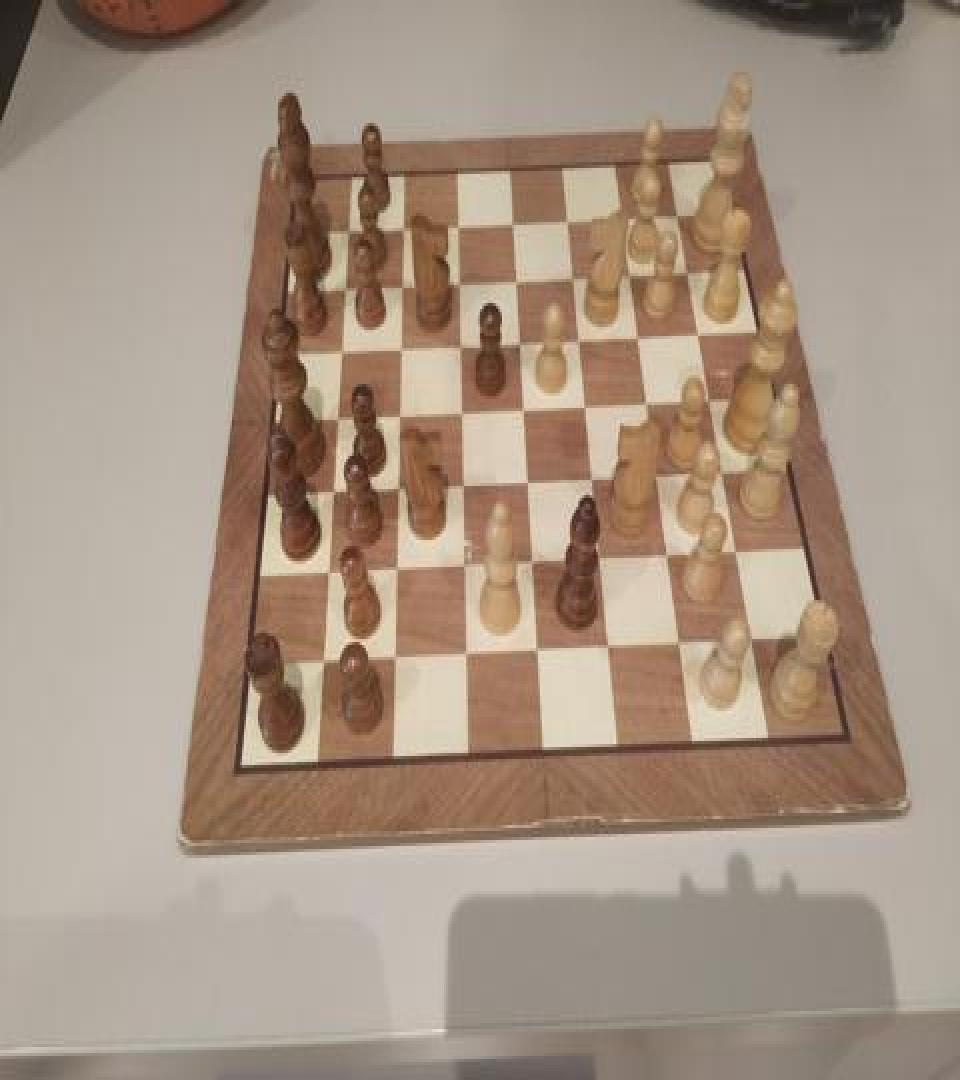xcorner: (516, 466, 536, 497), (321, 400, 341, 431), (664, 199, 684, 230), (308, 648, 328, 678), (382, 644, 402, 674), (454, 640, 474, 670), (527, 636, 547, 666), (599, 633, 619, 663), (671, 628, 691, 658), (743, 624, 763, 654), (313, 558, 333, 588), (383, 554, 403, 584), (521, 548, 541, 578), (590, 543, 610, 573), (658, 540, 678, 570), (727, 537, 747, 567), (318, 476, 338, 506), (384, 472, 404, 502), (450, 470, 470, 500), (581, 464, 601, 494), (647, 459, 667, 489), (712, 456, 732, 486), (385, 399, 405, 429), (448, 396, 468, 426), (511, 393, 531, 423), (574, 390, 594, 420), (636, 387, 656, 417), (698, 384, 718, 414), (325, 333, 345, 363), (386, 330, 406, 360), (446, 327, 466, 357), (506, 326, 526, 356), (566, 322, 586, 352), (626, 320, 646, 350), (686, 316, 706, 346), (328, 270, 348, 300), (387, 268, 407, 298), (444, 266, 464, 296), (502, 262, 522, 292), (560, 261, 580, 291), (617, 258, 637, 288), (675, 255, 695, 285), (331, 213, 351, 243), (387, 210, 407, 240), (443, 208, 463, 238), (498, 206, 518, 236), (554, 204, 574, 234), (609, 201, 629, 231), (452, 551, 472, 580)
